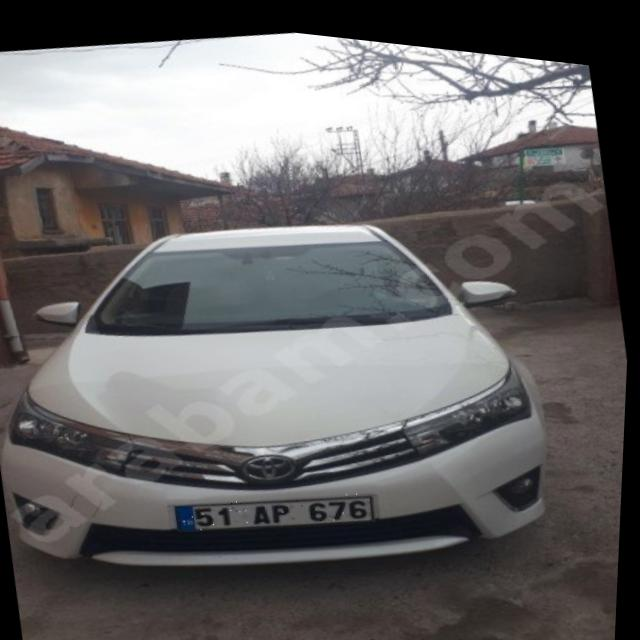license_plate: (176, 465, 382, 546)
